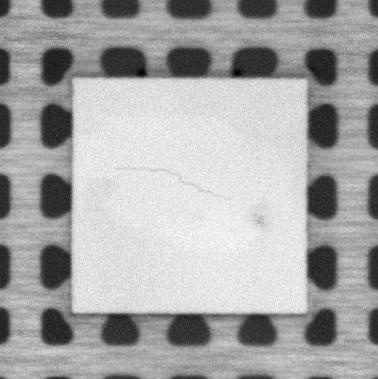DIE_CRACK: (115, 163, 232, 202)
